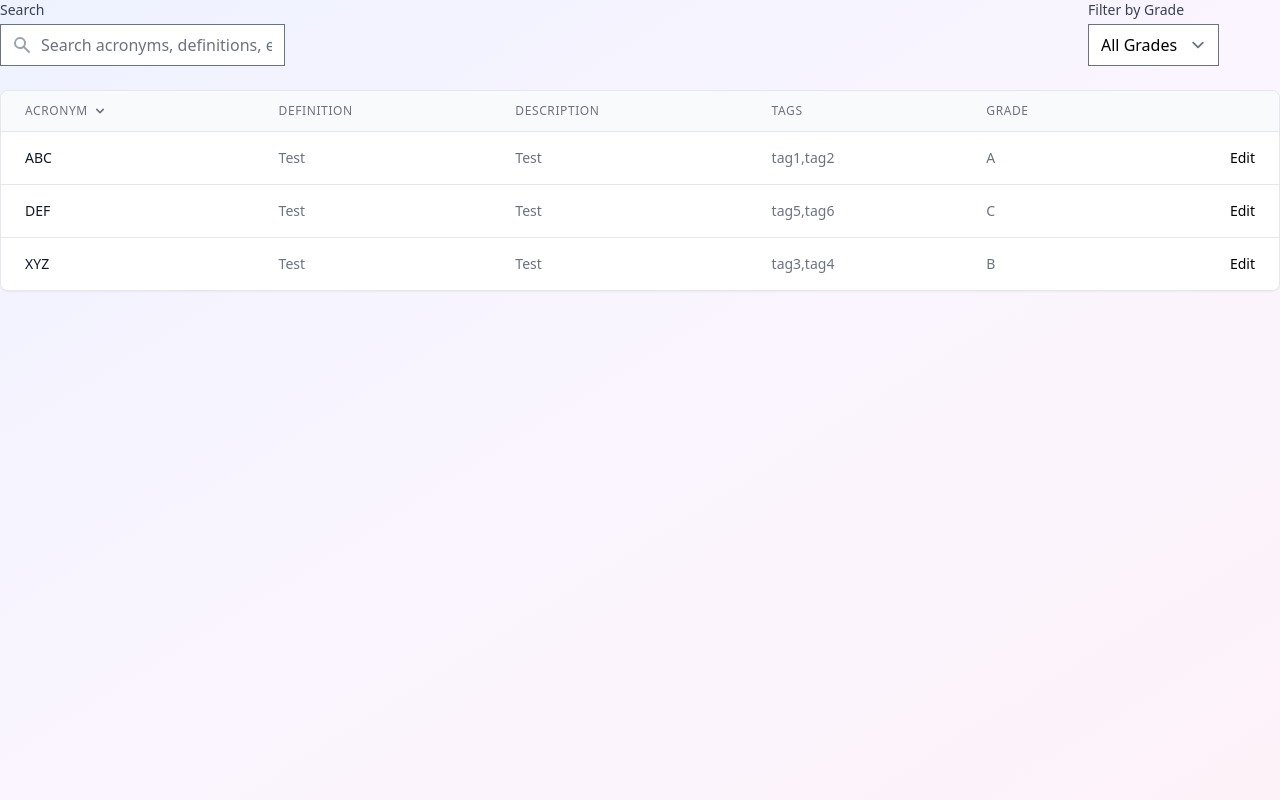
Test case: ResultsTable Component › displays "No results found" when filtered results are empty
Step 1. Type "NonexistentTerm" into the field with placeholder "Search acronyms, definitions, etc." → (142, 45), box [0, 24, 285, 66]
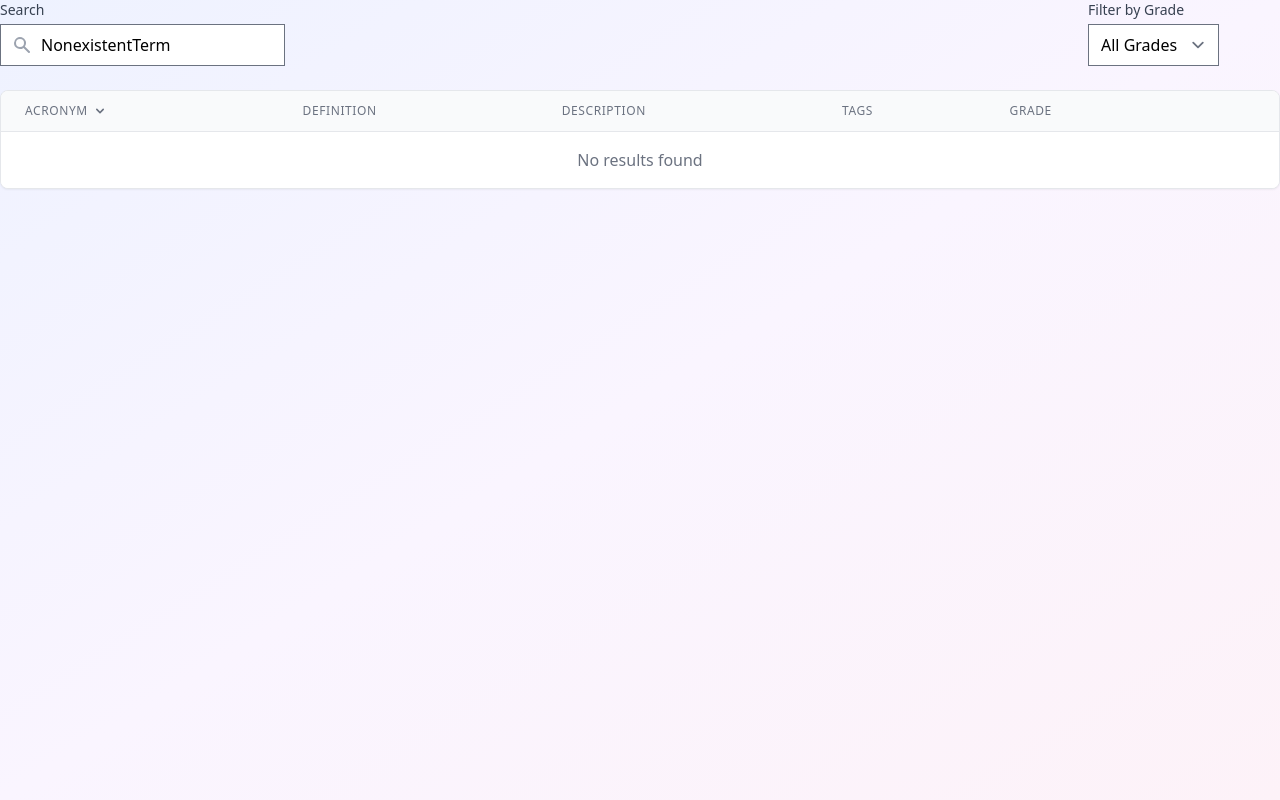
Now the text "No results found" is shown, box [1, 132, 1279, 188]
